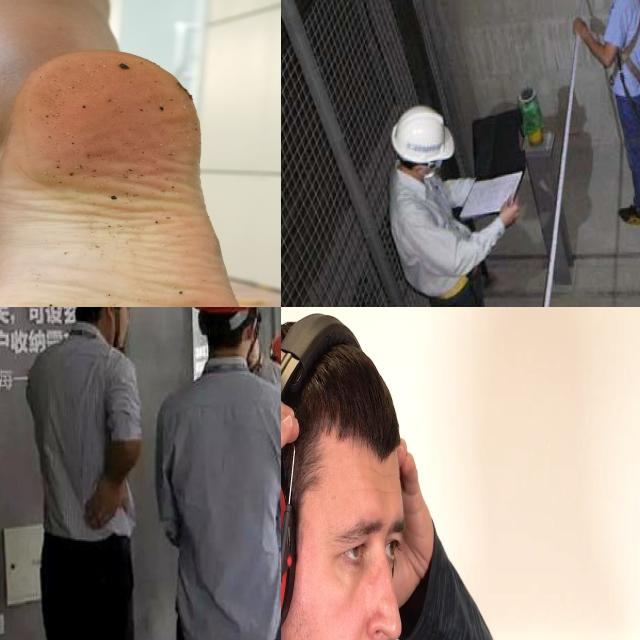Barefoots: (0, 49, 249, 307)
Ear-protection: (281, 311, 419, 640)
No_Ear-Protection: (388, 99, 454, 186), (246, 310, 260, 344), (103, 307, 122, 325)
No_Glasses: (309, 489, 412, 588)
